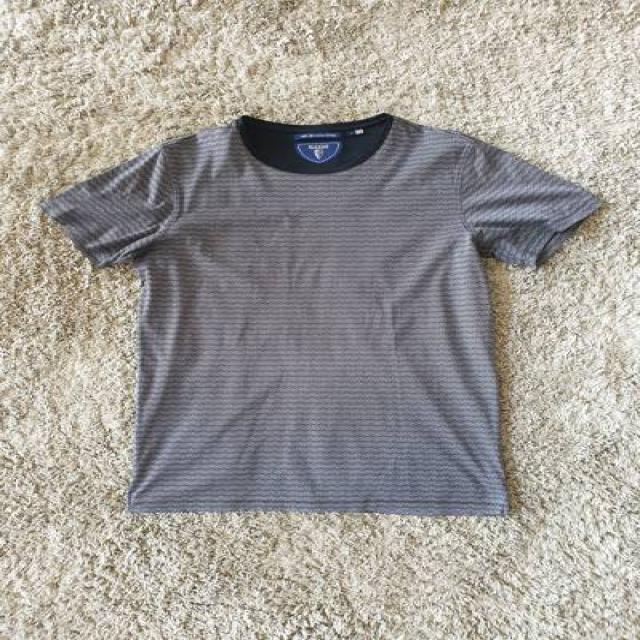shirt: (42, 114, 616, 518)
